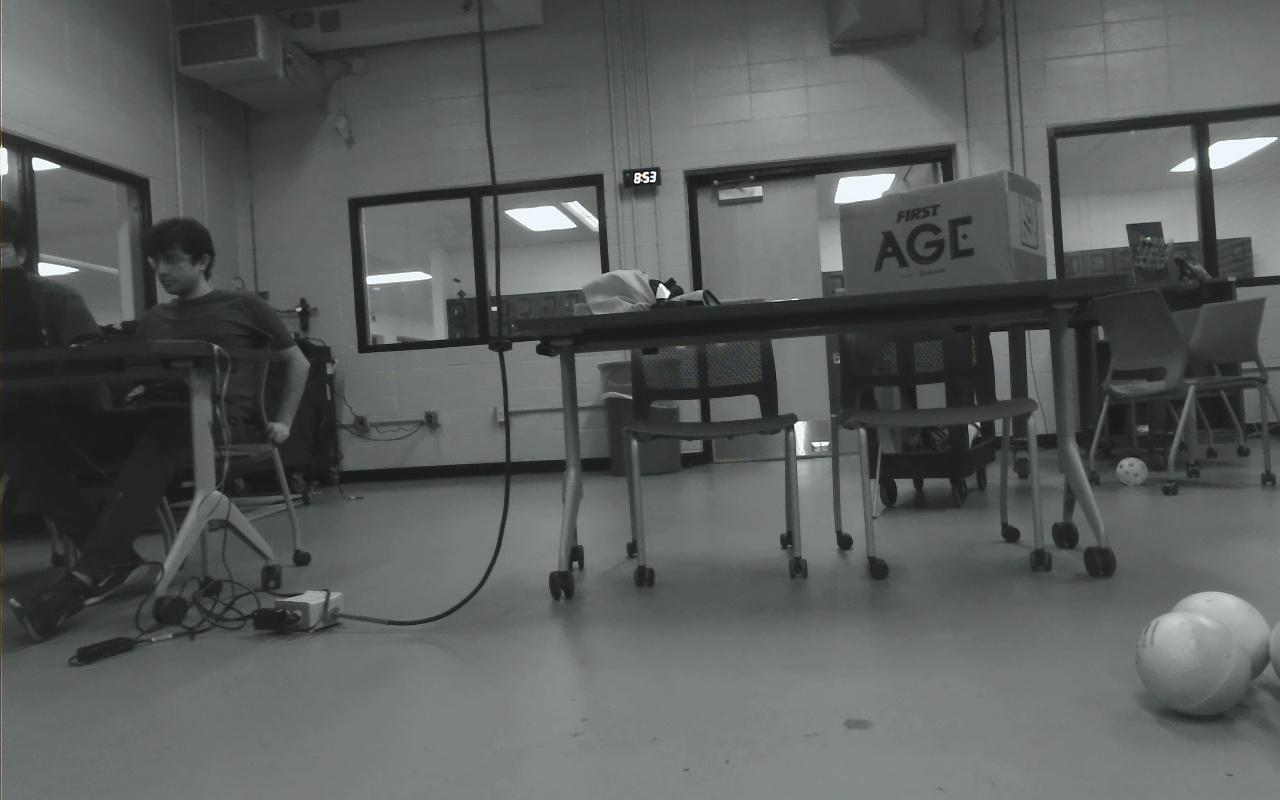Fuel: (1137, 610, 1249, 716), (1172, 591, 1268, 687), (1268, 620, 1280, 680)
